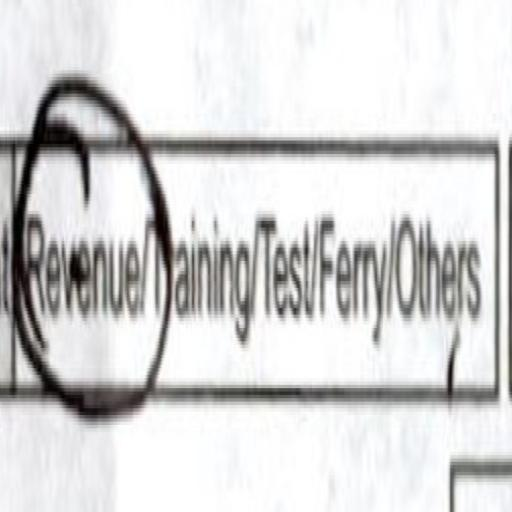check: (16, 83, 150, 404)
